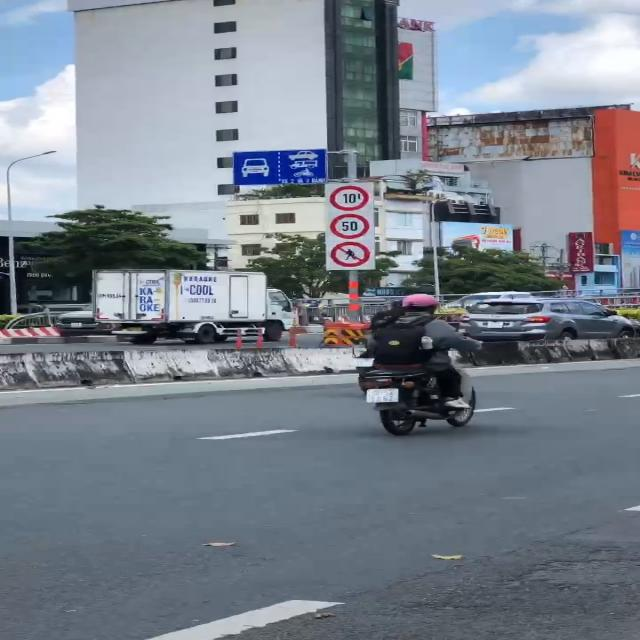Bien bao cam nguoi di bo: (326, 239, 374, 270)
Bien bao toc do toi da cho phep: (331, 213, 370, 240)
